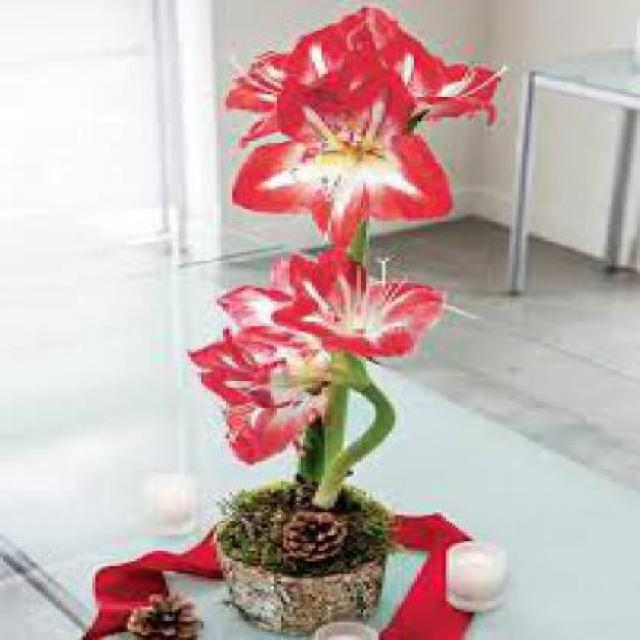Flower: (233, 66, 456, 251), (226, 8, 500, 125), (271, 247, 446, 359)
